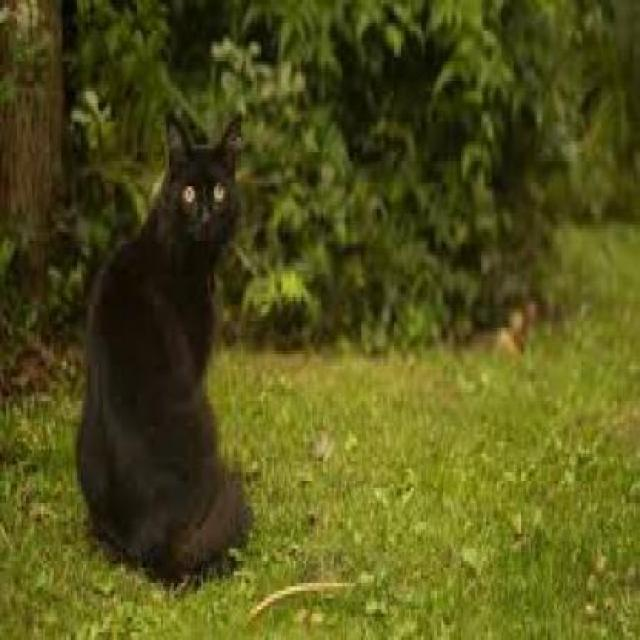animals: (68, 106, 250, 583)
